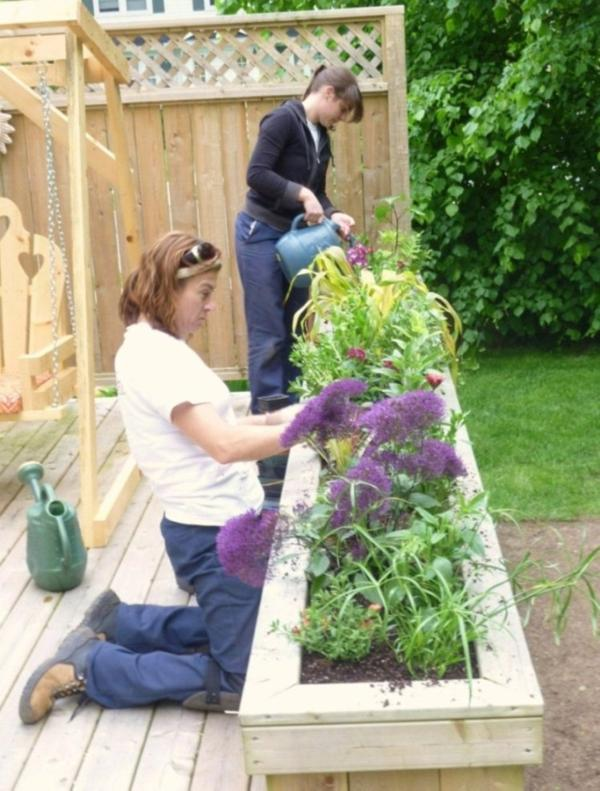person: (19, 233, 306, 732)
